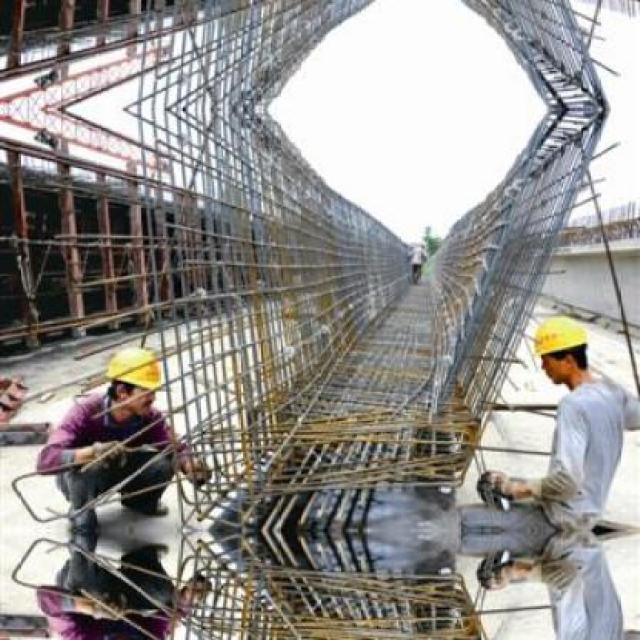helmet: (99, 341, 163, 419), (528, 314, 594, 385)
